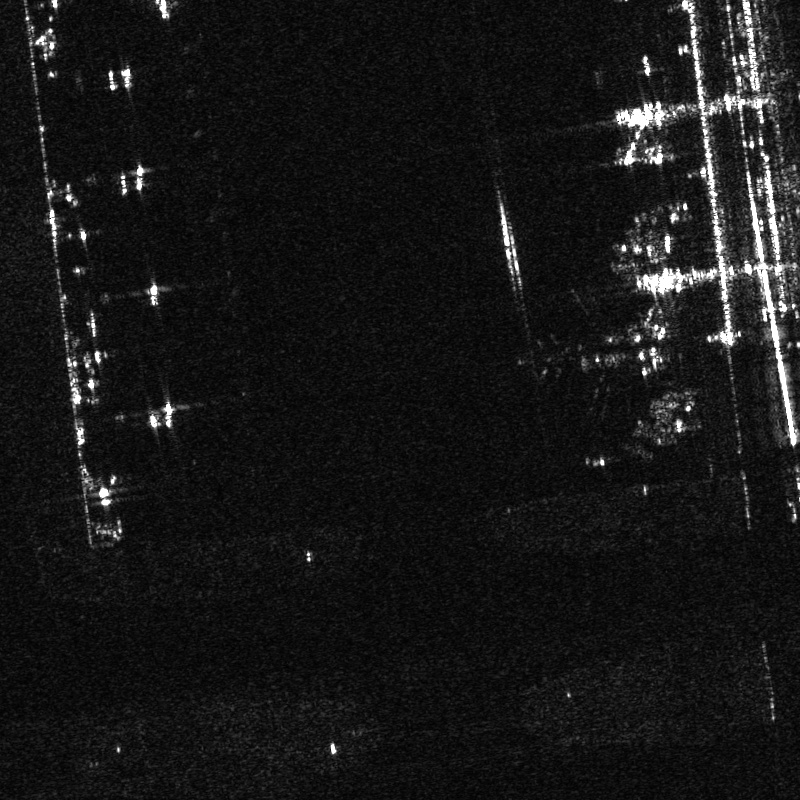A330: (515, 284, 647, 429)
